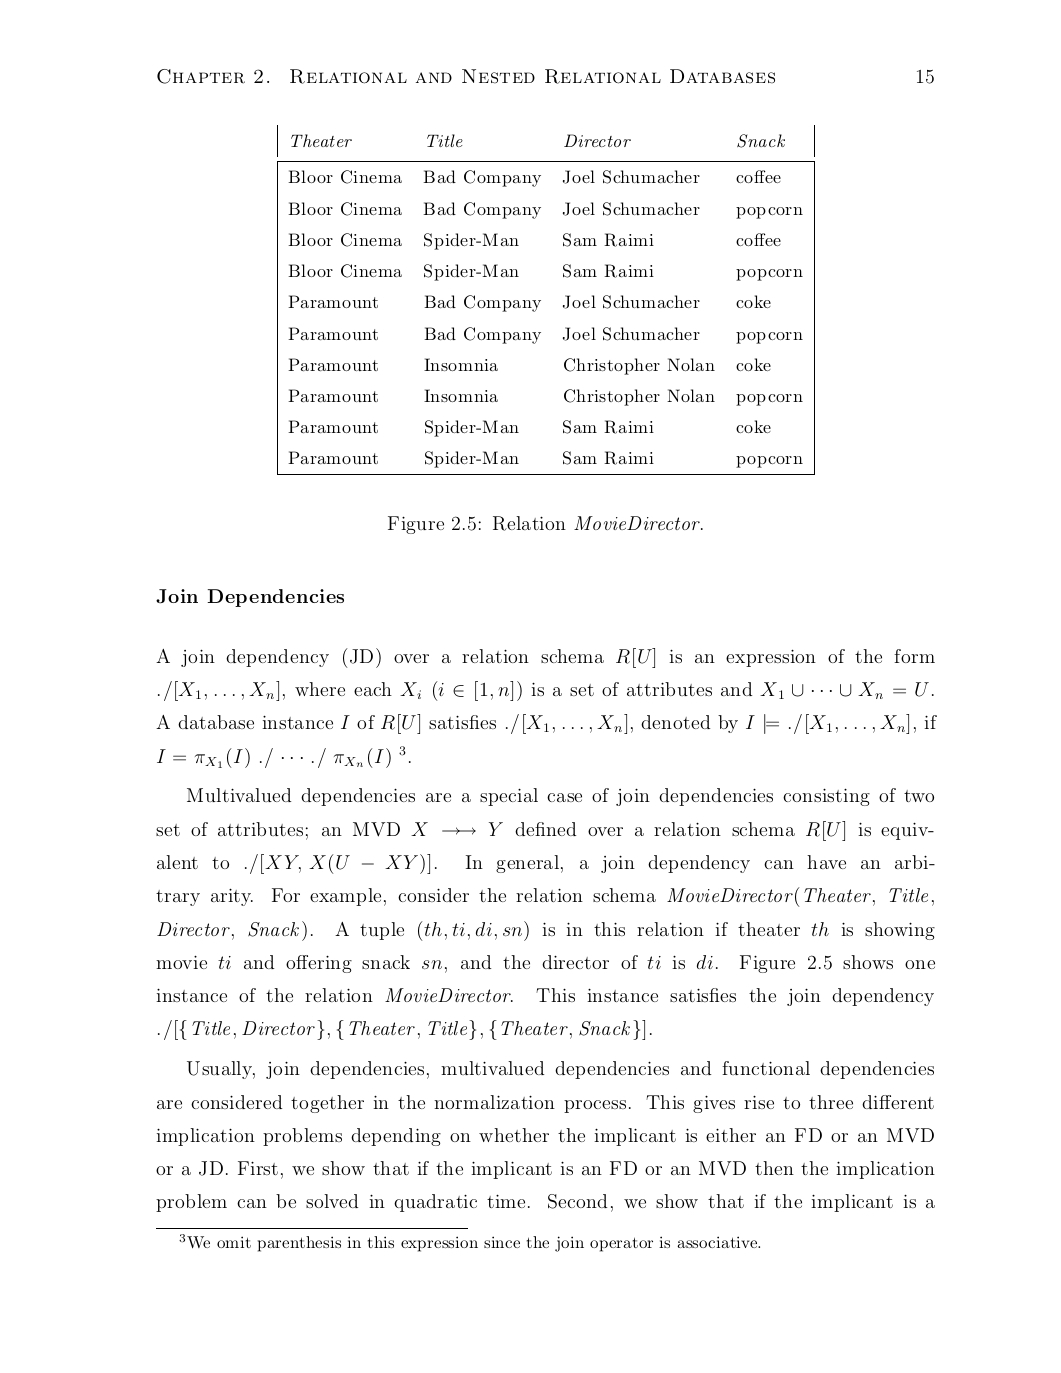Table: (278, 125, 814, 474)
formula: (156, 744, 410, 768)
